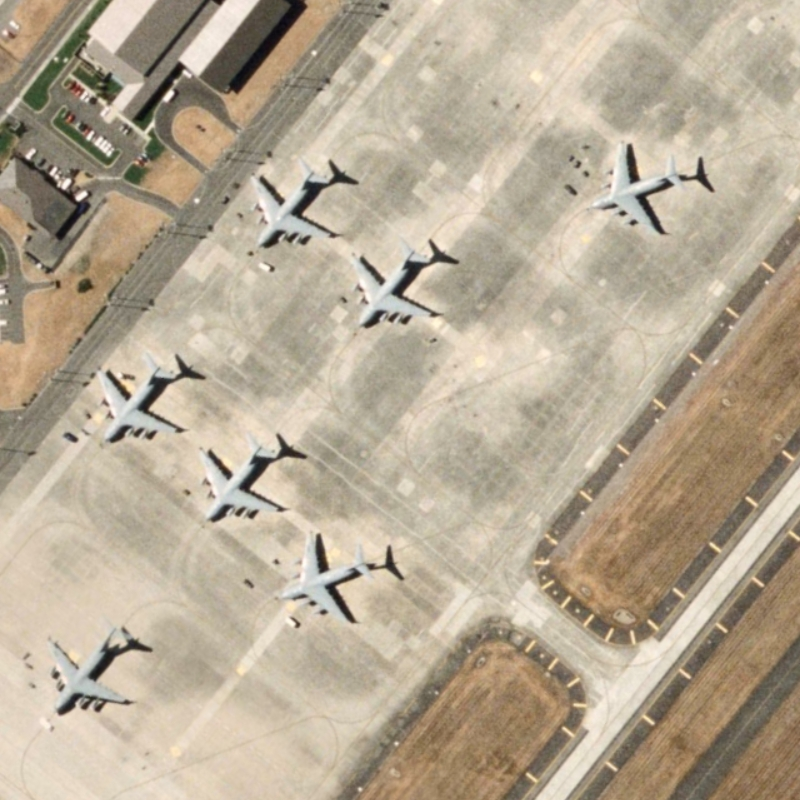A3: (580, 130, 693, 241), (37, 609, 144, 721), (266, 526, 376, 630), (343, 236, 449, 338), (90, 345, 193, 448), (243, 154, 342, 252), (192, 428, 287, 526)
